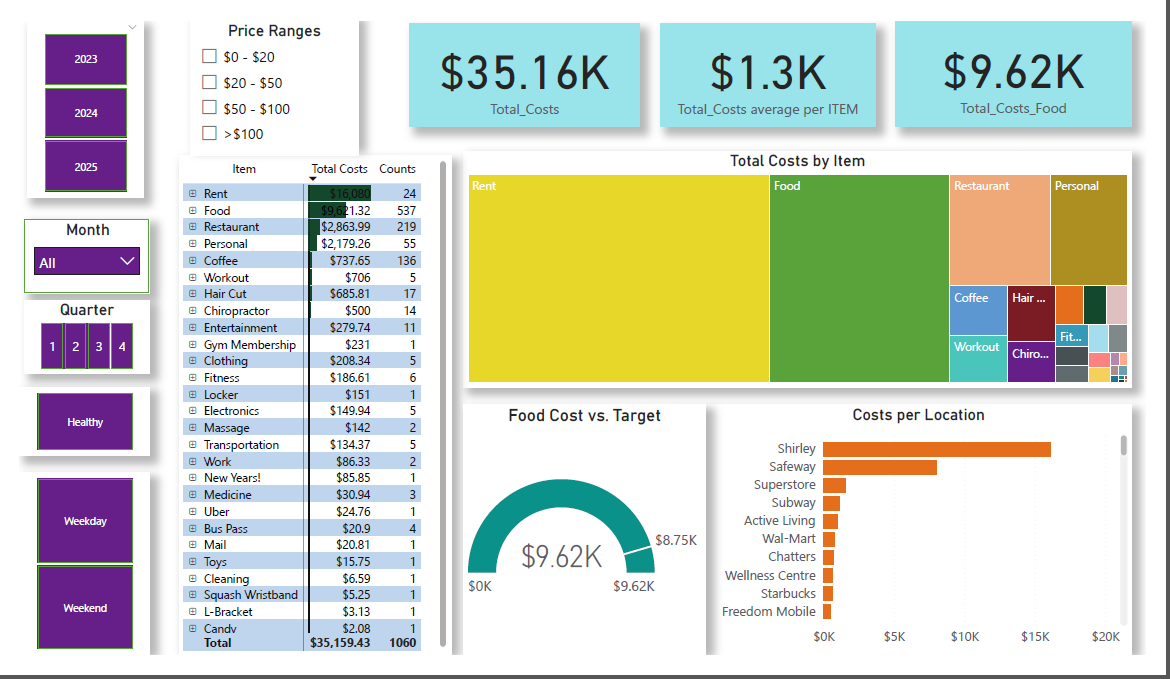

This screenshot's page, from the dashboard's own definition file:
{"tool":"powerbi","page":{"name":"Executive Summary","canvas":[1280,720],"ordinal":0},"visuals":[{"type":"treemap","title":"Total Costs by Item","fields":{"Values":["Finance_Data.Total_Costs"],"Group":["Item_Lookup.Item"]},"box":[505.5,148.4,758.2,267.4],"z":0},{"type":"barChart","title":"Costs per Location","fields":{"Y":["Finance_Data.COST"],"Category":["Finance_Data.LOCATION"]},"box":[780.2,436.4,483.4,283.6],"z":1000},{"type":"pivotTable","fields":{"Rows":["Item_Lookup.Item","Finance_Data.LOCATION","Finance_Data.Price_Ranges"],"Values":["Finance_Data.Total_Costs","Finance_Data.ITEM"]},"box":[182.2,152.8,308.6,567.2],"z":2000},{"type":"slicer","title":"Month","fields":{"Values":["Calendar_Lookup.Month_Name"]},"box":[5.9,224.8,142.5,83.8],"z":3000},{"type":"slicer","title":"Quarter","fields":{"Values":["Calendar_Lookup.Quarter"]},"box":[5.9,317.4,142.5,82.3],"z":4000},{"type":"slicer","fields":{"Values":["Finance_Data.Sick(Boolean)"]},"box":[0,415.8,148.4,77.9],"z":5000},{"type":"slicer","title":"Price Ranges","fields":{"Values":["Finance_Data.Price_Ranges"]},"box":[195.4,0,189.6,152.8],"z":6000},{"type":"slicer","fields":{"Values":["Calendar_Lookup.Year"]},"box":[8.8,0,132.2,199.8],"z":7000},{"type":"slicer","fields":{"Values":["Calendar_Lookup.Weekday"]},"box":[0,512.8,148.4,207.2],"z":8000},{"type":"card","fields":{"Values":["Finance_Data.Total_Costs"]},"box":[443.8,2.9,261.6,117.6],"z":9000},{"type":"card","fields":{"Values":["Finance_Data.Total_Costs average per ITEM"]},"box":[728.8,2.9,243.9,117.6],"z":10000},{"type":"card","fields":{"Values":["Finance_Data.Total_Costs_Food"]},"box":[996.2,0,267.4,120.5],"z":11000},{"type":"gauge","title":"Food Cost vs. Target","fields":{"Y":["Finance_Data.Total_Costs_Food"],"TargetValue":["Finance_Data.Target_Monthly_Food_Cost"],"MaxValue":["Finance_Data.Total_Costs_Food"]},"box":[505.5,436.4,274.8,283.6],"z":12000}]}

Visuals, with their boxes on the page's 1280x720 design canvas (x1, y1, x2, y2). These are canvas units, not pixel positions in the 1170x679 screenshot, which may show the page scaled, cropped or inside an application window:
"Total Costs by Item" treemap: l=506, t=148, r=1264, b=416
"Costs per Location" barChart: l=780, t=436, r=1264, b=720
pivotTable - Item_Lookup.Item x Finance_Data.LOCATION: l=182, t=153, r=491, b=720
"Month" slicer: l=6, t=225, r=148, b=309
"Quarter" slicer: l=6, t=317, r=148, b=400
slicer - Finance_Data.Sick(Boolean): l=0, t=416, r=148, b=494
"Price Ranges" slicer: l=195, t=0, r=385, b=153
slicer - Calendar_Lookup.Year: l=9, t=0, r=141, b=200
slicer - Calendar_Lookup.Weekday: l=0, t=513, r=148, b=720
card - Finance_Data.Total_Costs: l=444, t=3, r=705, b=120
card - Finance_Data.Total_Costs average per ITEM: l=729, t=3, r=973, b=120
card - Finance_Data.Total_Costs_Food: l=996, t=0, r=1264, b=120
"Food Cost vs. Target" gauge: l=506, t=436, r=780, b=720
